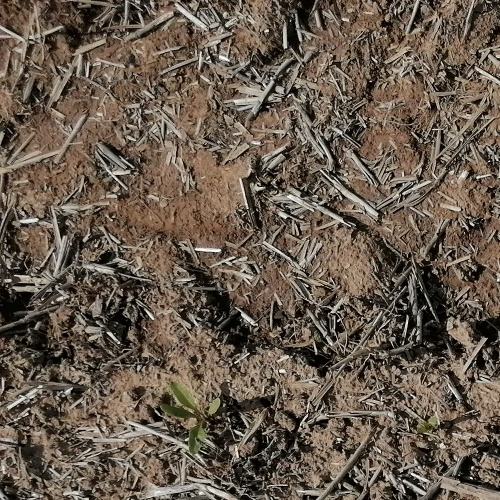beet: (161, 382, 222, 456), (416, 415, 438, 433)
